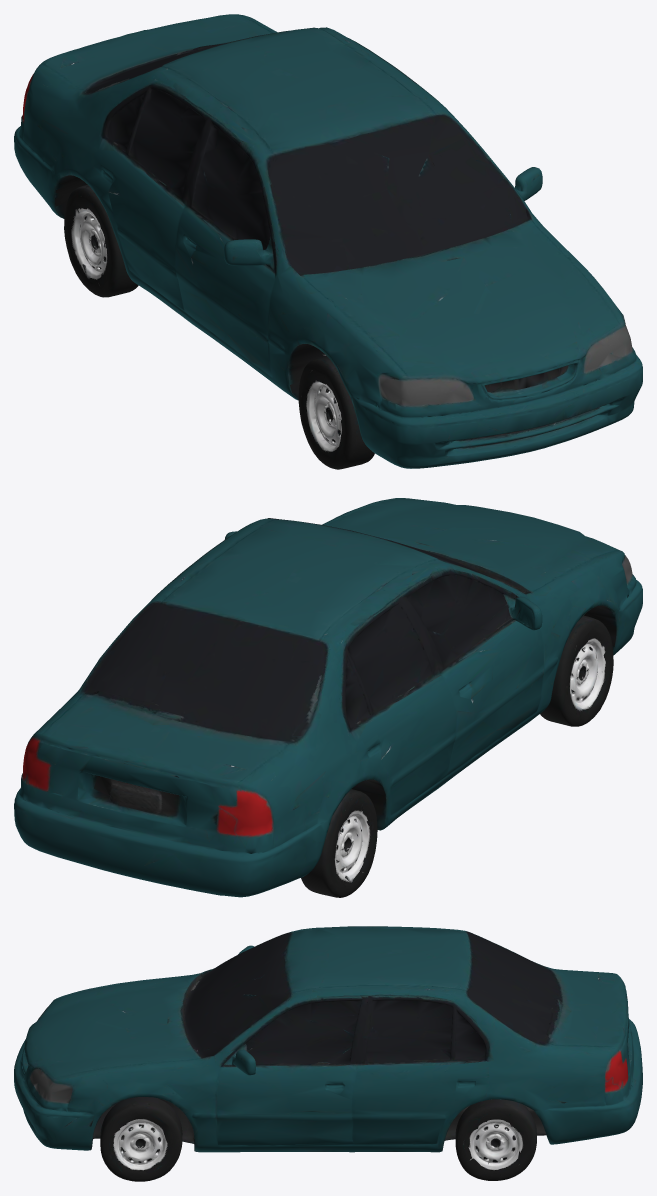
The model's file is sedan-v11.glb.
3 views of the same model, one above another, from view 1: azimuth 30°, elevation 25°; view 2: azimuth 150°, elevation 25°; view 3: azimuth 270°, elevation 25° (orthographic). The views are drawn at different scales.
Visible parts, largest first — view 1: body, wheel_fl_mesh, wheel_rl_mesh; view 2: body, wheel_fl_mesh, wheel_rl_mesh; view 3: body, wheel_fr_mesh, wheel_rr_mesh.
Boxes of the visible parts, left/top/right/bottom form: body: left=14, top=14, right=642, bottom=468; wheel_fl_mesh: left=298, top=356, right=374, bottom=469; wheel_rl_mesh: left=64, top=184, right=138, bottom=297; body: left=14, top=498, right=642, bottom=897; wheel_fl_mesh: left=540, top=615, right=613, bottom=726; wheel_rl_mesh: left=301, top=789, right=377, bottom=897; body: left=14, top=926, right=642, bottom=1152; wheel_fr_mesh: left=100, top=1097, right=182, bottom=1181; wheel_rr_mesh: left=455, top=1099, right=536, bottom=1180.
Bounding box in the file's own units: 1.97 × 1.42 × 4.5.
1 material, 1 textured.
